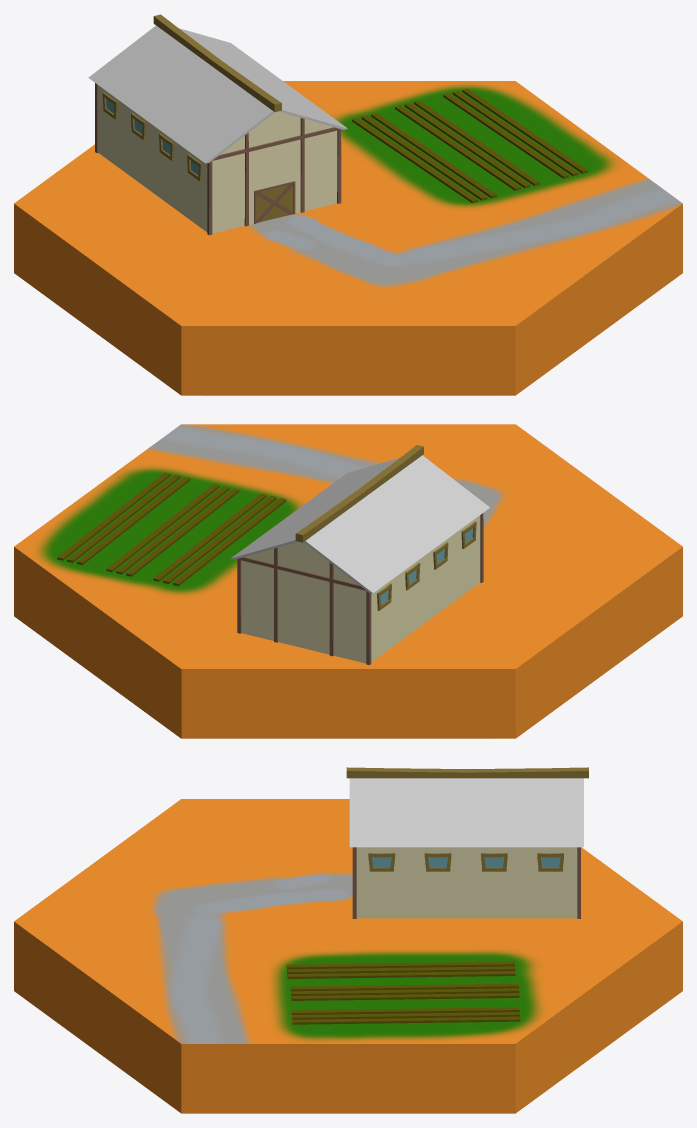
The model's file is Tuile_Champ_Village_N1.fbx.
The picture shows the model from 3 angles, top to bottom: view 1: azimuth 30°, elevation 25°; view 2: azimuth 150°, elevation 25°; view 3: azimuth 270°, elevation 25°; orthographic projection.
Visible parts, largest first — view 1: Circle, poutre toit.001, Cube.003, nIV2.002; view 2: Circle, poutre toit.001, Cube.003, nIV2.002; view 3: Circle, poutre toit.001, Cube.003, nIV2.002.
Boxes of the visible parts, box(x1,y1,x2,y2) form: Circle: box(14, 81, 682, 395); poutre toit.001: box(95, 14, 341, 235); Cube.003: box(88, 25, 347, 163); nIV2.002: box(352, 88, 587, 203); Circle: box(14, 424, 682, 738); poutre toit.001: box(237, 445, 483, 665); Cube.003: box(231, 455, 489, 593); nIV2.002: box(57, 472, 286, 586); Circle: box(14, 799, 682, 1113); poutre toit.001: box(346, 767, 588, 918); Cube.003: box(349, 778, 583, 847); nIV2.002: box(286, 961, 520, 1024).
Size of the model in its own units: 107 by 38.19 by 124.
